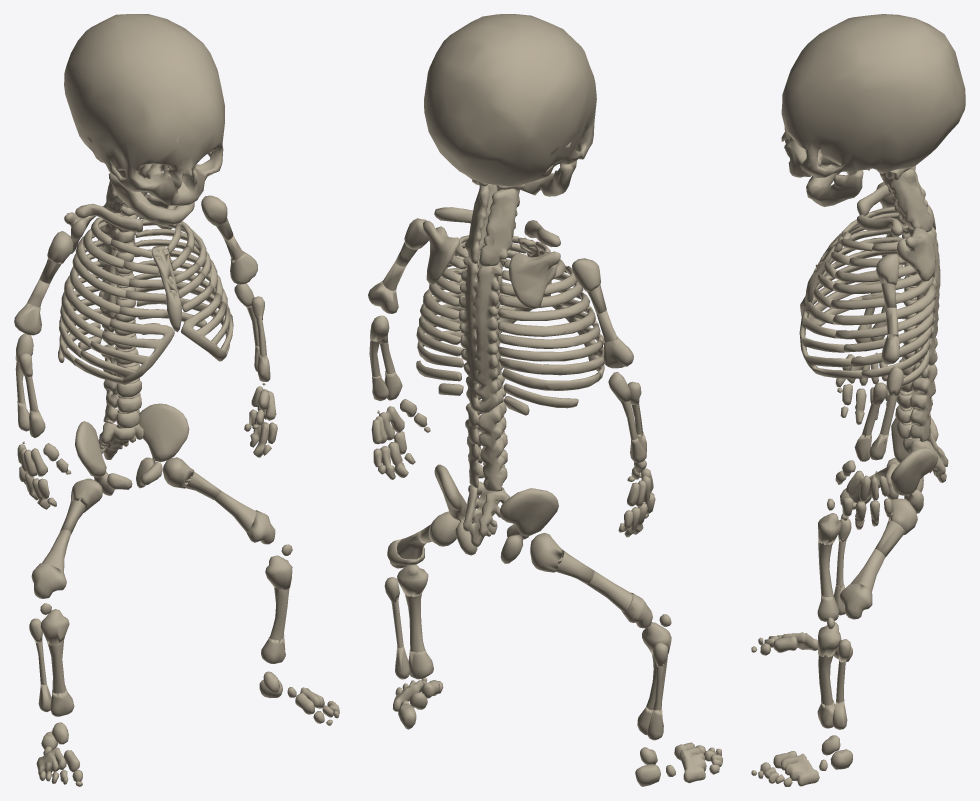
Rendered from pediatric_neonate_female.skeletal.LOD2.glb.
The picture shows the model from 3 angles, left to right: view 1: azimuth 30°, elevation 25°; view 2: azimuth 150°, elevation 25°; view 3: azimuth 270°, elevation 25°; orthographic projection. The views are drawn at different scales.
Parts seen in each view (by area): view 1: PEDIATRIC.NEONATE.FEMALE.SKELETAL.CARTILAGE_TRUNK, PEDIATRIC.NEONATE.FEMALE.SKELETAL.CARTILAGE_HEAD, PEDIATRIC.NEONATE.FEMALE.SKELETAL.CARTILAGE_LEGS, PEDIATRIC.NEONATE.FEMALE.SKELETAL.CARTILAGE_ARMS, PEDIATRIC.NEONATE.FEMALE.SKELETAL.RIBS_CORTICAL, PEDIATRIC.NEONATE.FEMALE.SKELETAL.FEMORA_LOWER_CORTICAL, PEDIATRIC.NEONATE.FEMALE.SKELETAL.TIBIAE_CORTICAL, PEDIATRIC.NEONATE.FEMALE.SKELETAL.FEMORA_UPPER_CORTICAL, PEDIATRIC.NEONATE.FEMALE.SKELETAL.HUMERI_LOWER_CORTICAL, PEDIATRIC.NEONATE.FEMALE.SKELETAL.RADII_CORTICAL; view 2: PEDIATRIC.NEONATE.FEMALE.SKELETAL.CARTILAGE_TRUNK, PEDIATRIC.NEONATE.FEMALE.SKELETAL.CARTILAGE_HEAD, PEDIATRIC.NEONATE.FEMALE.SKELETAL.CARTILAGE_LEGS, PEDIATRIC.NEONATE.FEMALE.SKELETAL.CARTILAGE_ARMS, PEDIATRIC.NEONATE.FEMALE.SKELETAL.RIBS_CORTICAL, PEDIATRIC.NEONATE.FEMALE.SKELETAL.FEMORA_LOWER_CORTICAL, PEDIATRIC.NEONATE.FEMALE.SKELETAL.TIBIAE_CORTICAL, PEDIATRIC.NEONATE.FEMALE.SKELETAL.FEMORA_UPPER_CORTICAL, PEDIATRIC.NEONATE.FEMALE.SKELETAL.HUMERI_LOWER_CORTICAL, PEDIATRIC.NEONATE.FEMALE.SKELETAL.FIBULAE_CORTICAL, PEDIATRIC.NEONATE.FEMALE.SKELETAL.ULNAE_CORTICAL, PEDIATRIC.NEONATE.FEMALE.SKELETAL.HUMERI_UPPER_CORTICAL; view 3: PEDIATRIC.NEONATE.FEMALE.SKELETAL.CARTILAGE_HEAD, PEDIATRIC.NEONATE.FEMALE.SKELETAL.CARTILAGE_TRUNK, PEDIATRIC.NEONATE.FEMALE.SKELETAL.CARTILAGE_LEGS, PEDIATRIC.NEONATE.FEMALE.SKELETAL.CARTILAGE_ARMS, PEDIATRIC.NEONATE.FEMALE.SKELETAL.TIBIAE_CORTICAL, PEDIATRIC.NEONATE.FEMALE.SKELETAL.RIBS_CORTICAL, PEDIATRIC.NEONATE.FEMALE.SKELETAL.FEMORA_LOWER_CORTICAL, PEDIATRIC.NEONATE.FEMALE.SKELETAL.FEMORA_UPPER_CORTICAL, PEDIATRIC.NEONATE.FEMALE.SKELETAL.FIBULAE_CORTICAL, PEDIATRIC.NEONATE.FEMALE.SKELETAL.RADII_CORTICAL, PEDIATRIC.NEONATE.FEMALE.SKELETAL.ULNAE_CORTICAL.
Boxes of the visible parts, x1=… form: PEDIATRIC.NEONATE.FEMALE.SKELETAL.CARTILAGE_TRUNK: x1=58, y1=170, x2=233, y2=495; PEDIATRIC.NEONATE.FEMALE.SKELETAL.CARTILAGE_HEAD: x1=64, y1=14, x2=224, y2=226; PEDIATRIC.NEONATE.FEMALE.SKELETAL.CARTILAGE_LEGS: x1=29, y1=457, x2=339, y2=786; PEDIATRIC.NEONATE.FEMALE.SKELETAL.CARTILAGE_ARMS: x1=14, y1=195, x2=277, y2=509; PEDIATRIC.NEONATE.FEMALE.SKELETAL.RIBS_CORTICAL: x1=59, y1=217, x2=228, y2=364; PEDIATRIC.NEONATE.FEMALE.SKELETAL.FEMORA_LOWER_CORTICAL: x1=42, y1=491, x2=256, y2=572; PEDIATRIC.NEONATE.FEMALE.SKELETAL.TIBIAE_CORTICAL: x1=47, y1=587, x2=289, y2=693; PEDIATRIC.NEONATE.FEMALE.SKELETAL.FEMORA_UPPER_CORTICAL: x1=60, y1=469, x2=221, y2=534; PEDIATRIC.NEONATE.FEMALE.SKELETAL.HUMERI_LOWER_CORTICAL: x1=27, y1=234, x2=242, y2=307; PEDIATRIC.NEONATE.FEMALE.SKELETAL.RADII_CORTICAL: x1=24, y1=300, x2=266, y2=411; PEDIATRIC.NEONATE.FEMALE.SKELETAL.CARTILAGE_TRUNK: x1=416, y1=179, x2=604, y2=563; PEDIATRIC.NEONATE.FEMALE.SKELETAL.CARTILAGE_HEAD: x1=424, y1=14, x2=596, y2=196; PEDIATRIC.NEONATE.FEMALE.SKELETAL.CARTILAGE_LEGS: x1=384, y1=511, x2=722, y2=786; PEDIATRIC.NEONATE.FEMALE.SKELETAL.CARTILAGE_ARMS: x1=368, y1=218, x2=655, y2=537; PEDIATRIC.NEONATE.FEMALE.SKELETAL.RIBS_CORTICAL: x1=416, y1=237, x2=603, y2=415; PEDIATRIC.NEONATE.FEMALE.SKELETAL.FEMORA_LOWER_CORTICAL: x1=397, y1=530, x2=632, y2=612; PEDIATRIC.NEONATE.FEMALE.SKELETAL.TIBIAE_CORTICAL: x1=405, y1=593, x2=667, y2=710; PEDIATRIC.NEONATE.FEMALE.SKELETAL.FEMORA_UPPER_CORTICAL: x1=419, y1=524, x2=594, y2=584; PEDIATRIC.NEONATE.FEMALE.SKELETAL.HUMERI_LOWER_CORTICAL: x1=382, y1=261, x2=617, y2=342; PEDIATRIC.NEONATE.FEMALE.SKELETAL.FIBULAE_CORTICAL: x1=391, y1=600, x2=663, y2=711; PEDIATRIC.NEONATE.FEMALE.SKELETAL.ULNAE_CORTICAL: x1=369, y1=340, x2=637, y2=439; PEDIATRIC.NEONATE.FEMALE.SKELETAL.HUMERI_UPPER_CORTICAL: x1=395, y1=242, x2=606, y2=314; PEDIATRIC.NEONATE.FEMALE.SKELETAL.CARTILAGE_HEAD: x1=781, y1=14, x2=965, y2=206; PEDIATRIC.NEONATE.FEMALE.SKELETAL.CARTILAGE_TRUNK: x1=799, y1=166, x2=948, y2=513; PEDIATRIC.NEONATE.FEMALE.SKELETAL.CARTILAGE_LEGS: x1=751, y1=457, x2=917, y2=786; PEDIATRIC.NEONATE.FEMALE.SKELETAL.CARTILAGE_ARMS: x1=835, y1=182, x2=903, y2=529; PEDIATRIC.NEONATE.FEMALE.SKELETAL.TIBIAE_CORTICAL: x1=818, y1=542, x2=833, y2=706; PEDIATRIC.NEONATE.FEMALE.SKELETAL.RIBS_CORTICAL: x1=830, y1=207, x2=934, y2=380; PEDIATRIC.NEONATE.FEMALE.SKELETAL.FEMORA_LOWER_CORTICAL: x1=849, y1=473, x2=885, y2=591; PEDIATRIC.NEONATE.FEMALE.SKELETAL.FEMORA_UPPER_CORTICAL: x1=875, y1=467, x2=904, y2=557; PEDIATRIC.NEONATE.FEMALE.SKELETAL.FIBULAE_CORTICAL: x1=836, y1=539, x2=846, y2=703; PEDIATRIC.NEONATE.FEMALE.SKELETAL.RADII_CORTICAL: x1=862, y1=292, x2=880, y2=437; PEDIATRIC.NEONATE.FEMALE.SKELETAL.ULNAE_CORTICAL: x1=880, y1=306, x2=897, y2=435.
Bounding box in the file's own units: 0.2148 × 0.4769 × 0.1331.
